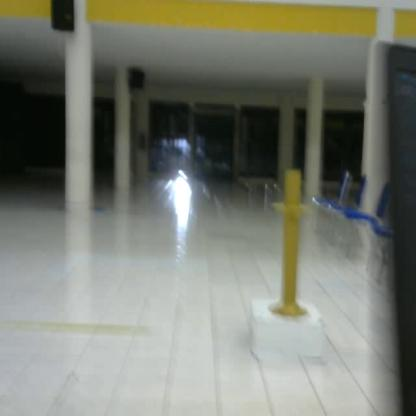pole: (263, 162, 316, 322)
